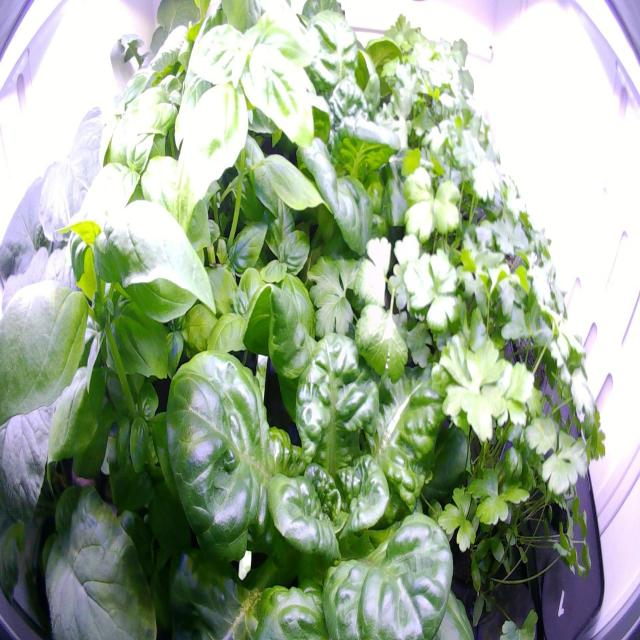Ready: (143, 227, 487, 639)
